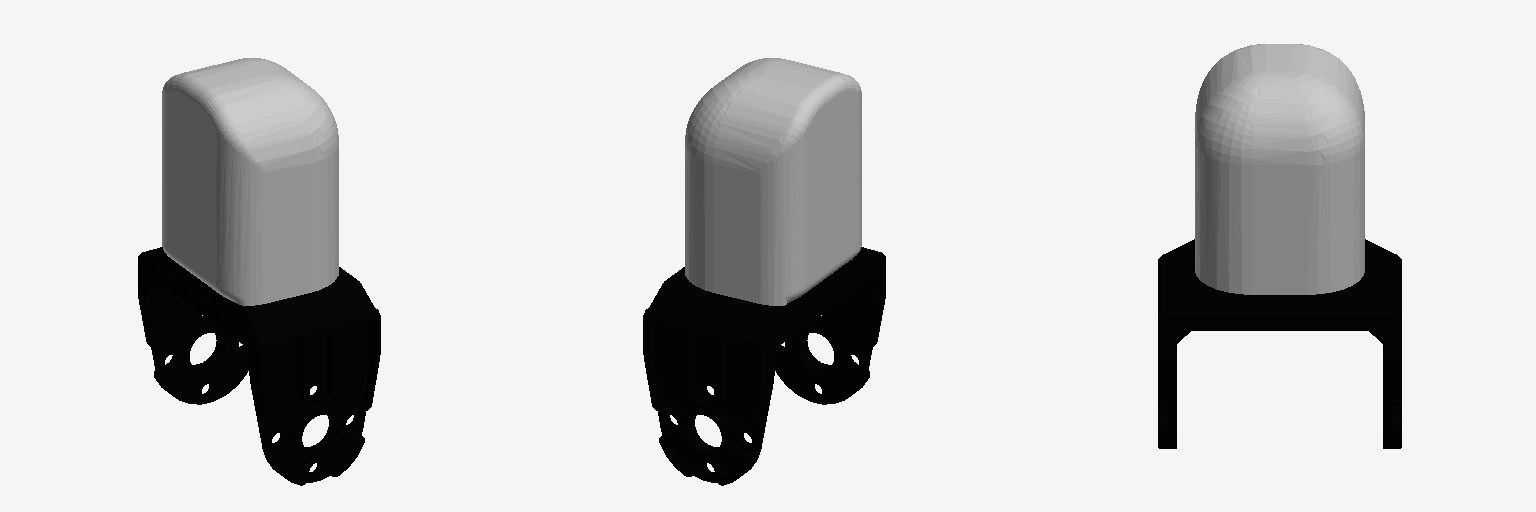
Rendered from fingertip.obj.
3 renders of one model, left to right at view 1: azimuth 30°, elevation 25°; view 2: azimuth 150°, elevation 25°; view 3: azimuth 270°, elevation 25°, orthographic.
Parts seen in each view (by area): view 1: fingertip_W, fingertip; view 2: fingertip_W, fingertip; view 3: fingertip_W, fingertip.
Boxes of the visible parts, box(x1,y1,x2,y2) form: fingertip_W: box(162, 58, 338, 305); fingertip: box(138, 247, 380, 485); fingertip_W: box(685, 58, 861, 305); fingertip: box(643, 247, 885, 485); fingertip_W: box(1195, 44, 1364, 294); fingertip: box(1158, 239, 1401, 448).
Size of the model in its own units: 0.0211 by 0.0579 by 0.0346.